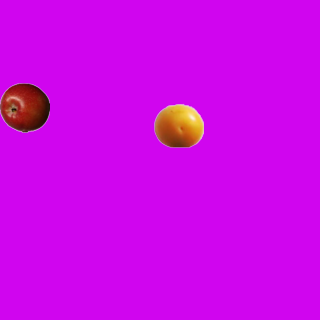Apple Braeburn: (0, 82, 49, 132)
Cherry Wax Yellow: (153, 100, 203, 150)
